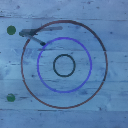Axe Tip: (28, 32, 38, 36)
